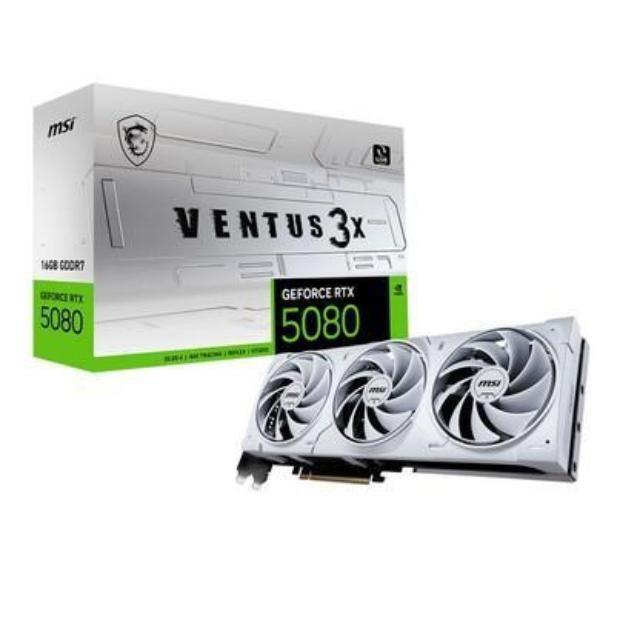GPU: (228, 311, 594, 500)
